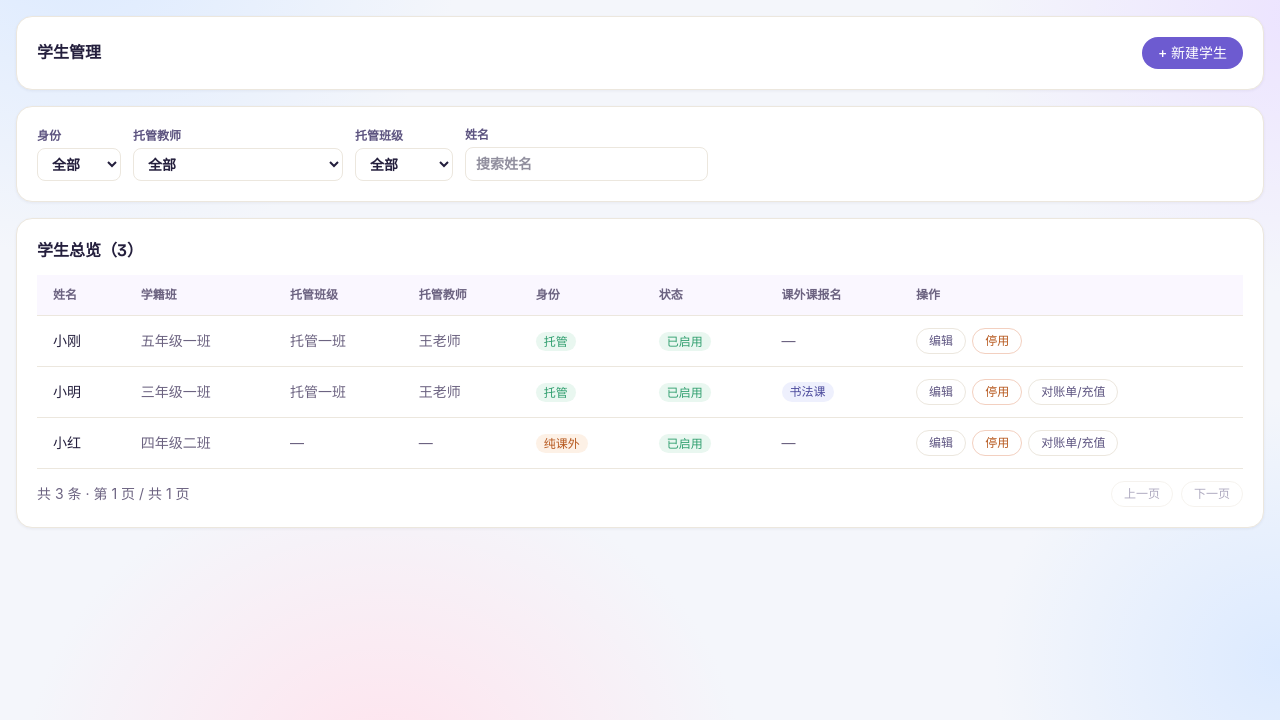
Scenario: AdminStudentsModule › passes the enrolled course ids down so recharging an unenrolled course is rejected
Click the button "对账单/充值" in the row of "小明" at [1073, 392], box x1=1028 y1=379 x2=1118 y2=405
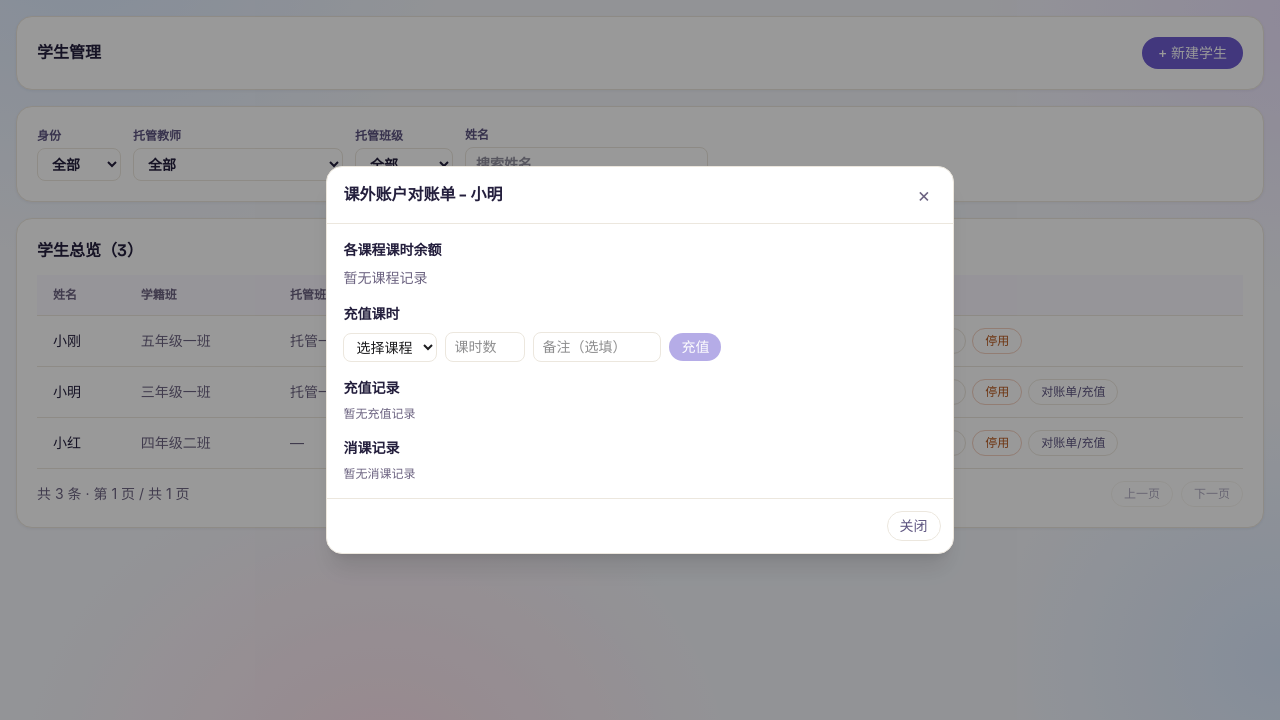
Now the heading "课外账户对账单 - 小明" is shown, box x1=343 y1=183 x2=502 y2=207
小明 只报名了书法课（id 30），围棋课（id 31）没报名。
Select "围棋课" in the dropdown named "充值课程" at [390, 347], box x1=343 y1=332 x2=437 y2=362
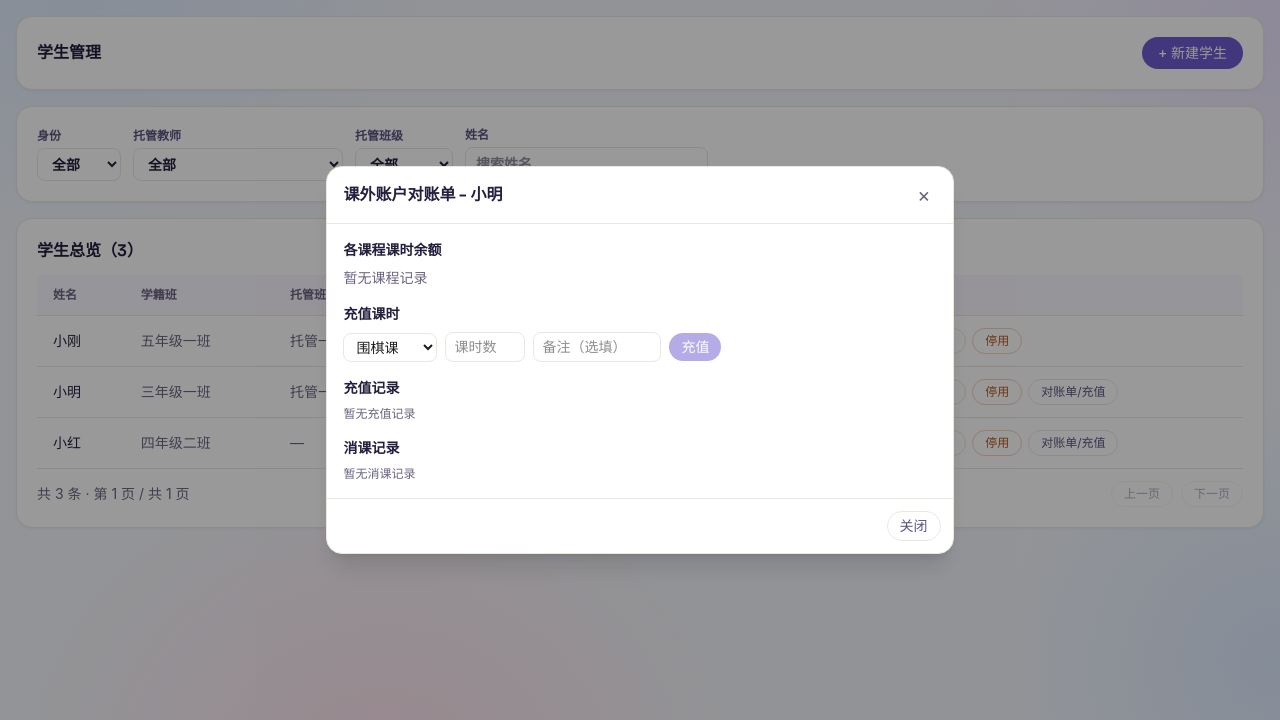
Type "5" into the field named "充值课时数" at [485, 347], box x1=445 y1=332 x2=525 y2=362
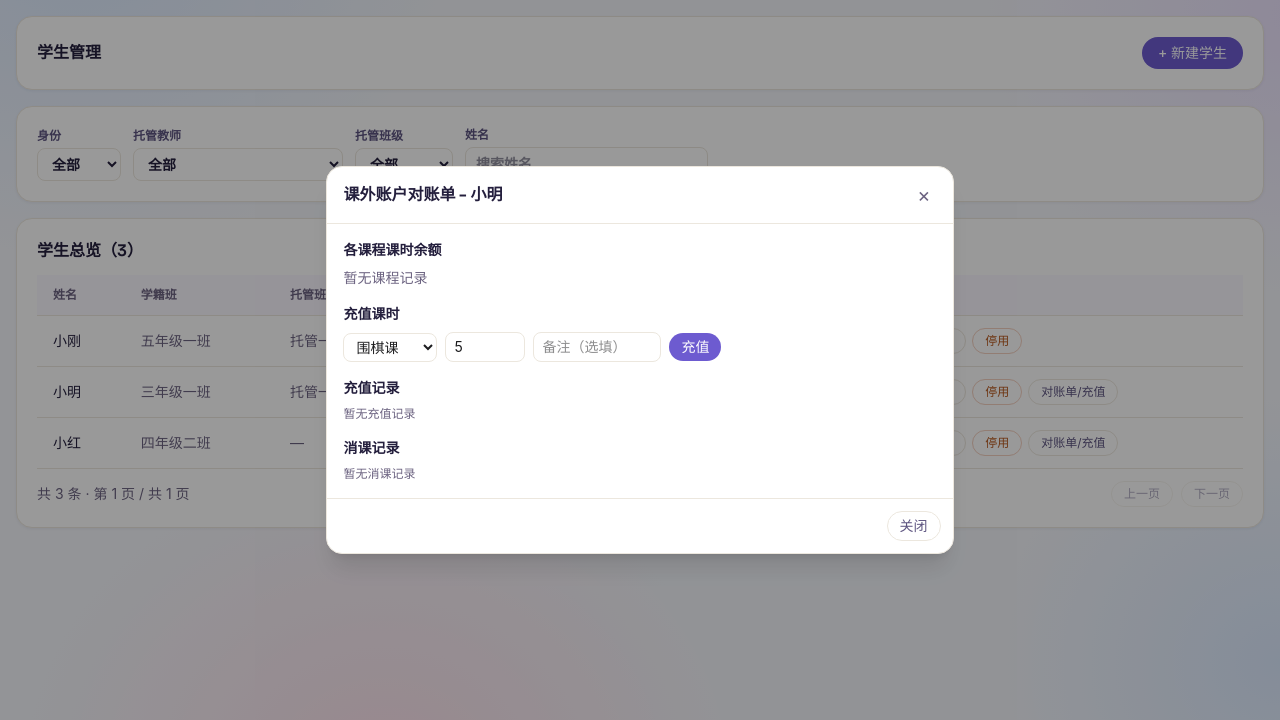
Click the button "充值" at [695, 347], box x1=669 y1=333 x2=721 y2=361
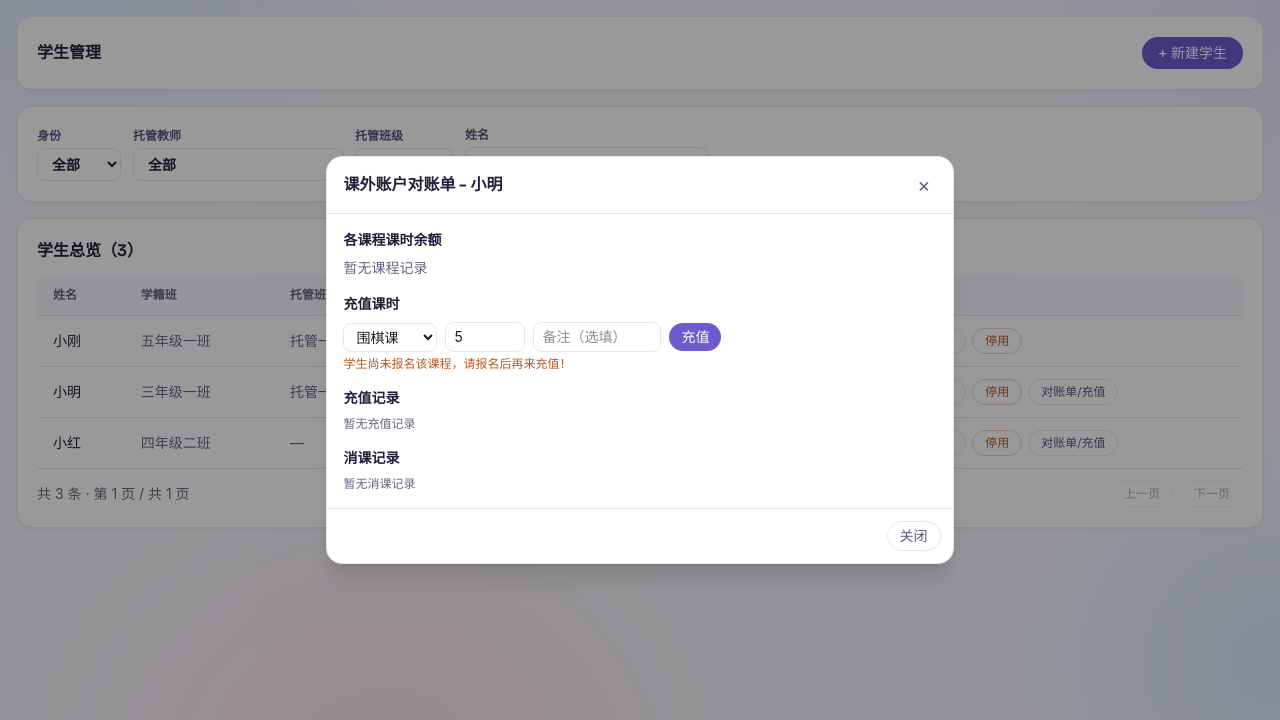
Now the text "学生尚未报名该课程，请报名后再来充值！" is shown, box x1=343 y1=356 x2=571 y2=371
